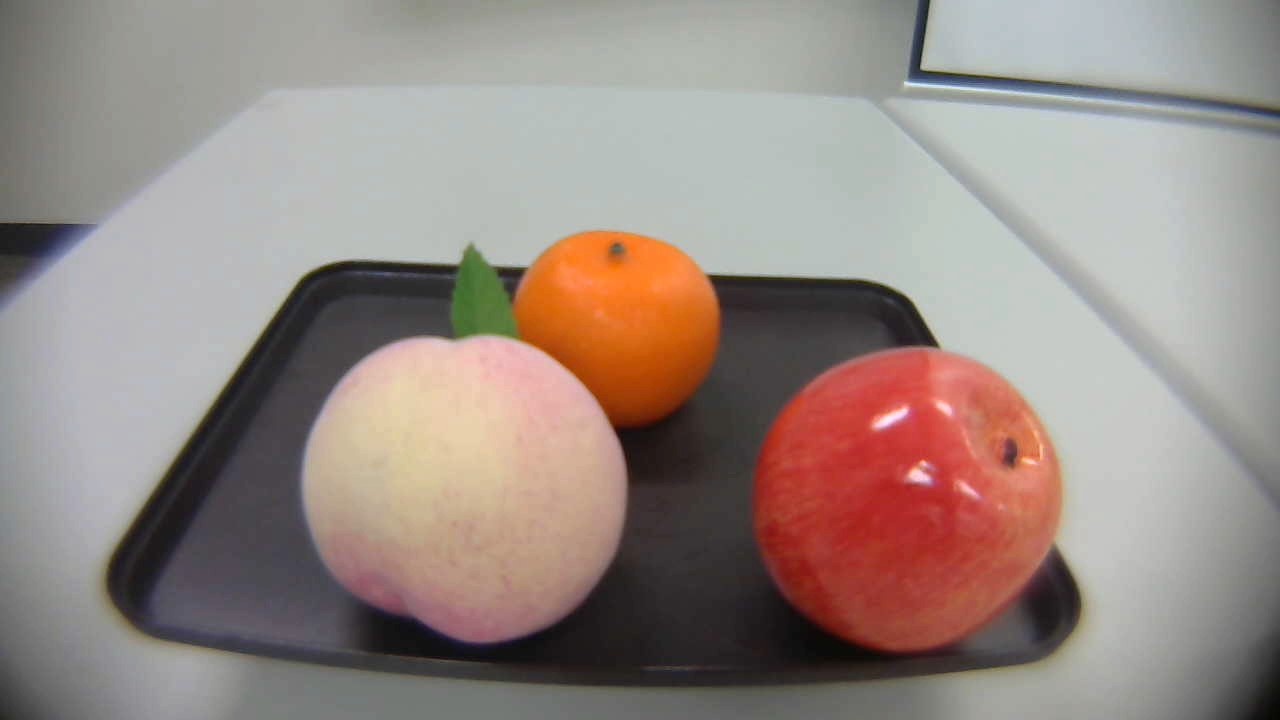orange: (514, 234, 723, 437)
peach: (294, 238, 633, 640)
red apple: (746, 340, 1068, 668)
